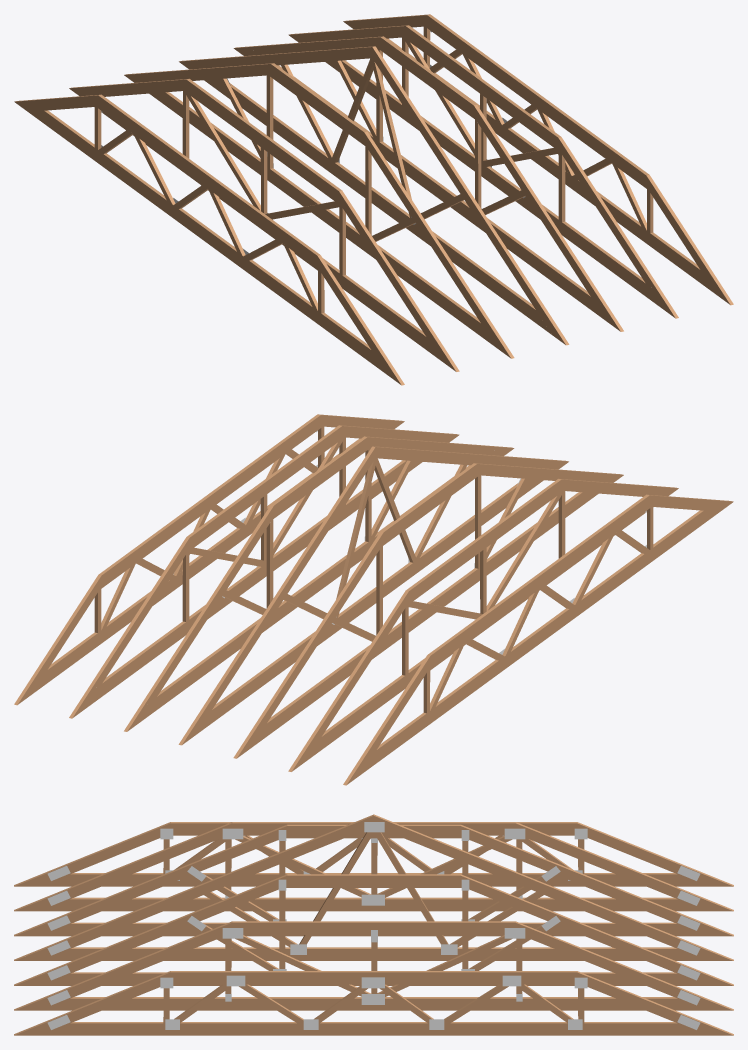
The picture shows the model from 3 angles, top to bottom: view 1: azimuth 30°, elevation 25°; view 2: azimuth 150°, elevation 25°; view 3: azimuth 270°, elevation 25°; orthographic projection. The views are drawn at different scales.
Parts seen in each view (by area): view 1: Hauptbinder.006, Hauptbinder, Hauptbinder.004, Hauptbinder.002, Hauptbinder.001, Hauptbinder.005, Hauptbinder.003; view 2: Hauptbinder.006, Hauptbinder, Hauptbinder.004, Hauptbinder.002, Hauptbinder.001, Hauptbinder.005, Hauptbinder.003; view 3: Hauptbinder.001, Hauptbinder.002, Hauptbinder, Hauptbinder.005, Hauptbinder.003, Hauptbinder.004, Hauptbinder.006.
Part boxes in pixels (left/top/right/bottom): Hauptbinder.006: left=14, top=94, right=404, bottom=385; Hauptbinder: left=179, top=46, right=569, bottom=345; Hauptbinder.004: left=124, top=63, right=514, bottom=358; Hauptbinder.002: left=288, top=25, right=678, bottom=318; Hauptbinder.001: left=343, top=14, right=733, bottom=305; Hauptbinder.005: left=69, top=78, right=459, bottom=371; Hauptbinder.003: left=233, top=36, right=623, bottom=331; Hauptbinder.006: left=343, top=494, right=733, bottom=785; Hauptbinder: left=178, top=446, right=568, bottom=745; Hauptbinder.004: left=233, top=463, right=623, bottom=758; Hauptbinder.002: left=69, top=425, right=459, bottom=718; Hauptbinder.001: left=14, top=414, right=404, bottom=705; Hauptbinder.005: left=288, top=478, right=678, bottom=771; Hauptbinder.003: left=124, top=436, right=514, bottom=731; Hauptbinder.001: left=14, top=971, right=733, bottom=1035; Hauptbinder.002: left=14, top=921, right=733, bottom=1010; Hauptbinder: left=14, top=814, right=733, bottom=960; Hauptbinder.005: left=14, top=822, right=733, bottom=911; Hauptbinder.003: left=14, top=874, right=733, bottom=985; Hauptbinder.004: left=14, top=824, right=733, bottom=936; Hauptbinder.006: left=14, top=822, right=733, bottom=886.
Size of the model in its own units: 5.64 by 2.54 by 11.39.
